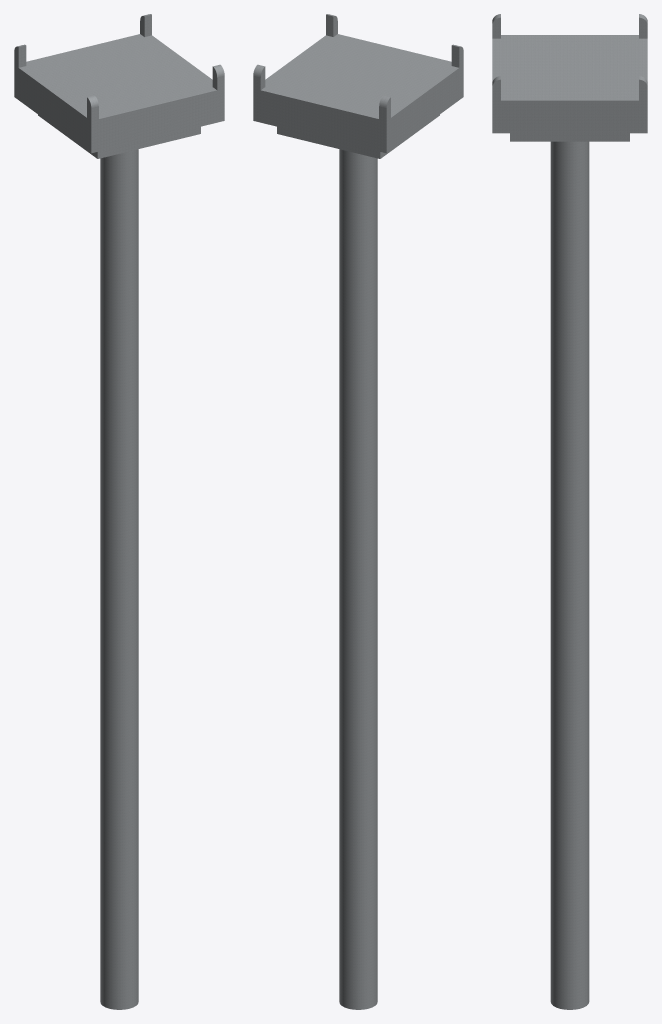
File: crane_hook.obj
3 views of the same model, side by side, from view 1: azimuth 30°, elevation 25°; view 2: azimuth 150°, elevation 25°; view 3: azimuth 270°, elevation 25° (orthographic).
Parts seen in each view (by area): view 1: group_0.002_ID24.005, group_0_ID3.006, group_0.001_ID16.004; view 2: group_0.002_ID24.005, group_0_ID3.006, group_0.001_ID16.004; view 3: group_0.002_ID24.005, group_0_ID3.006, group_0.001_ID16.004.
Boxes of the visible parts, left/top/right/bottom form: group_0.002_ID24.005: left=100, top=149, right=138, bottom=1009; group_0_ID3.006: left=14, top=14, right=224, bottom=153; group_0.001_ID16.004: left=38, top=114, right=200, bottom=158; group_0.002_ID24.005: left=339, top=149, right=377, bottom=1009; group_0_ID3.006: left=253, top=14, right=463, bottom=153; group_0.001_ID16.004: left=277, top=114, right=439, bottom=158; group_0.002_ID24.005: left=550, top=141, right=589, bottom=1009; group_0_ID3.006: left=492, top=14, right=647, bottom=133; group_0.001_ID16.004: left=510, top=133, right=629, bottom=141.
Size of the model in its own units: 8.84 by 59.9 by 8.84.
